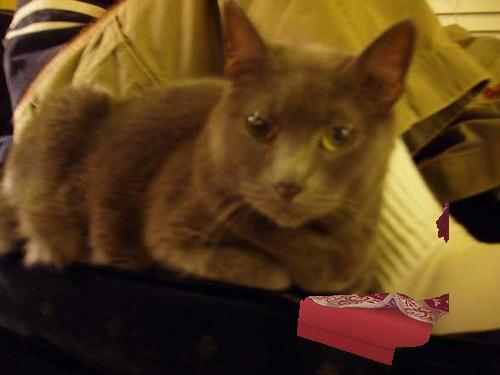tampered: (298, 201, 449, 365)
